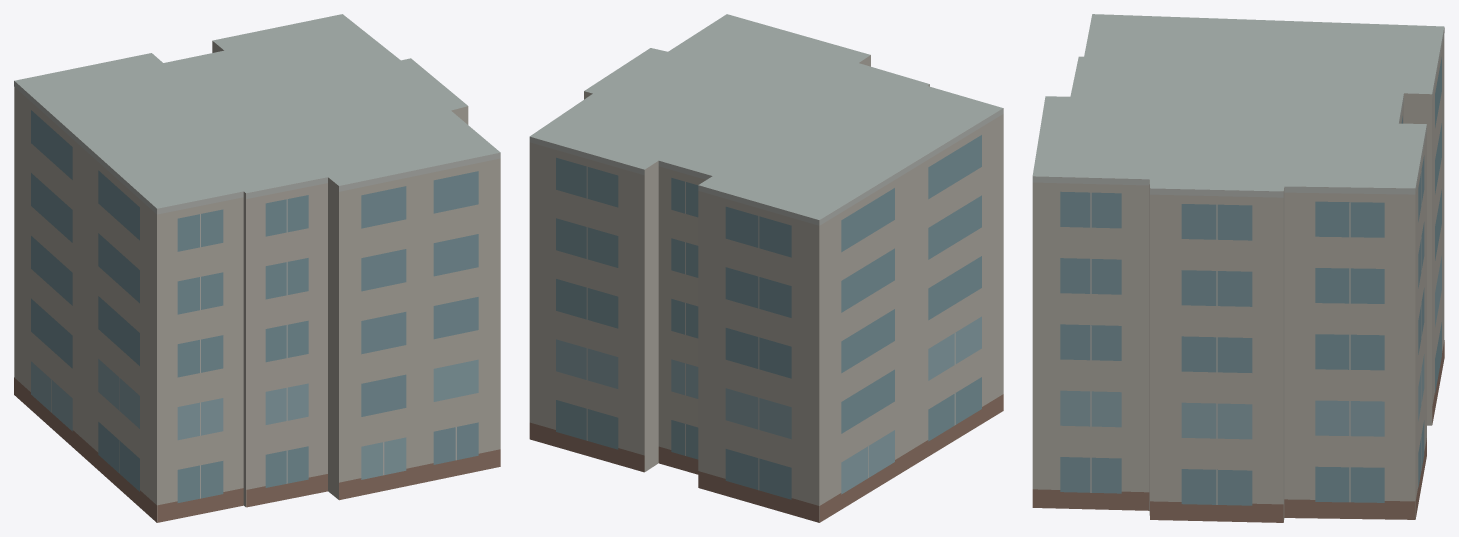
Rendered from survey-upis-33024600.glb.
3 views of the same model, side by side, from view 1: azimuth 30°, elevation 25°; view 2: azimuth 150°, elevation 25°; view 3: azimuth 270°, elevation 25° (orthographic). The views are drawn at different scales.
Parts seen in each view (by area): view 1: survey-upis-33024600.tmp; view 2: survey-upis-33024600.tmp; view 3: survey-upis-33024600.tmp.
Part boxes in pixels (x1,y1,x2,y2): survey-upis-33024600.tmp: (14,14,500,522); survey-upis-33024600.tmp: (529,14,1003,522); survey-upis-33024600.tmp: (1032,14,1444,522).
Size of the model in its own units: 15.05 by 13.1 by 14.77.
